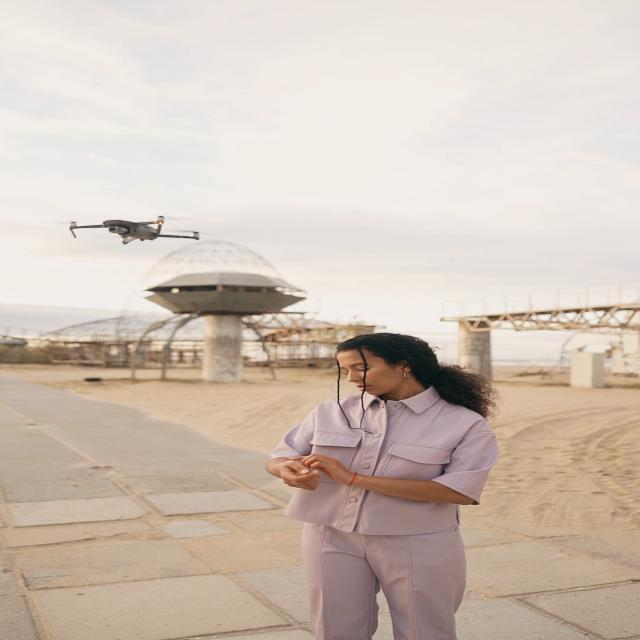Drone: (61, 208, 208, 250)
